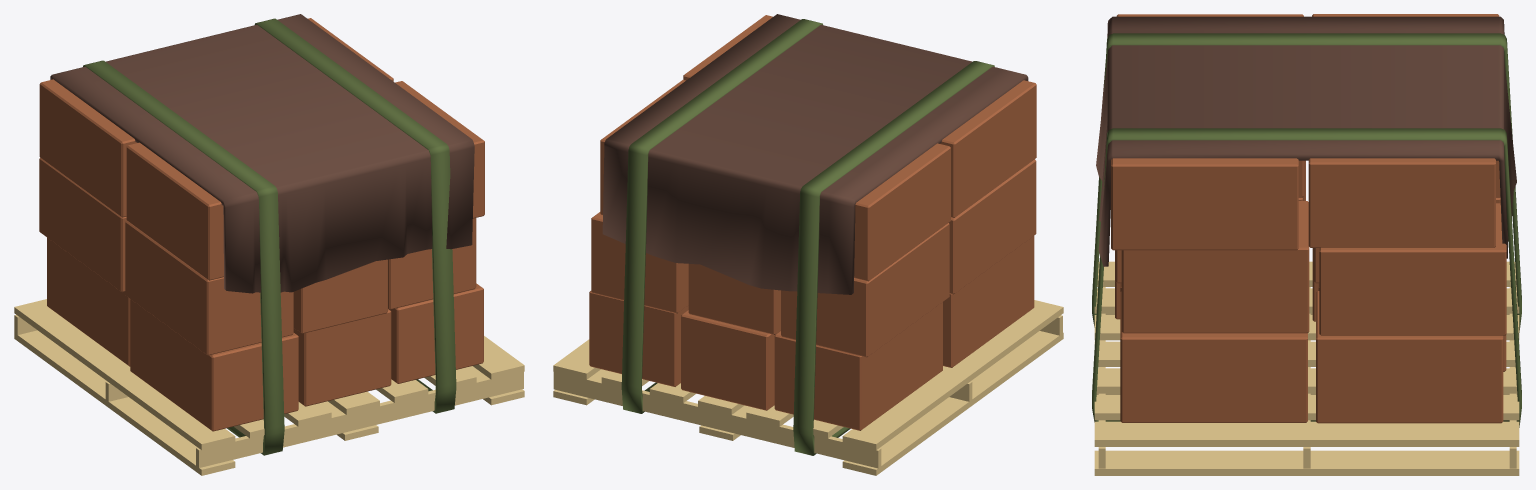
Rendered from loadedPallet.fbx.
3 renders of one model, left to right at view 1: azimuth 30°, elevation 25°; view 2: azimuth 150°, elevation 25°; view 3: azimuth 270°, elevation 25°, orthographic. The views are drawn at different scales.
Parts seen in each view (by area): view 1: Loaded Pallet; view 2: Loaded Pallet; view 3: Loaded Pallet.
Part boxes in pixels (x1,y1,x2,y2): Loaded Pallet: [14, 14, 524, 475]; Loaded Pallet: [553, 14, 1063, 475]; Loaded Pallet: [1092, 14, 1521, 475].
Size of the model in its own units: 221 by 172 by 224.
